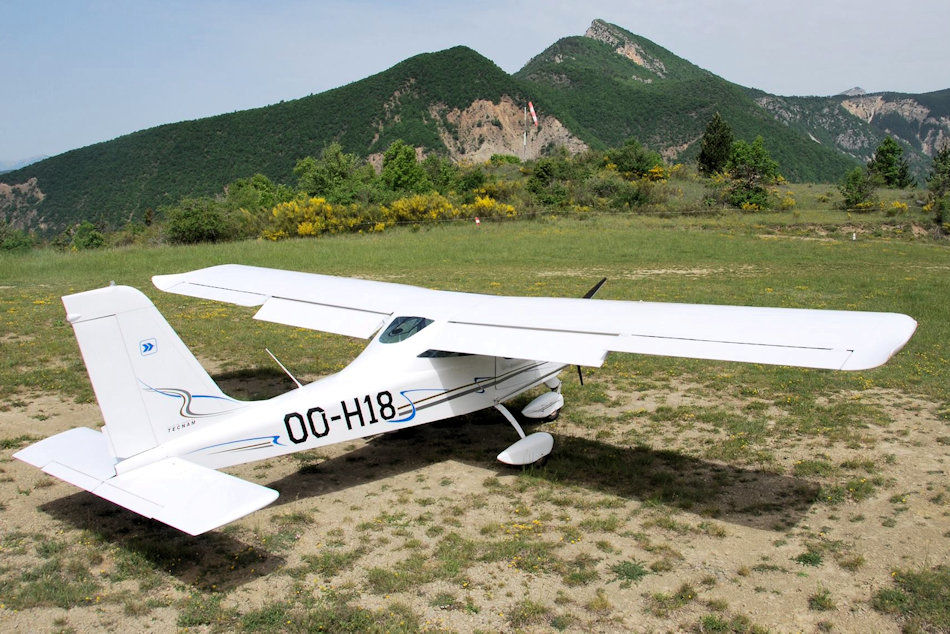Aeronef_de_loisir: (8, 247, 928, 556)
